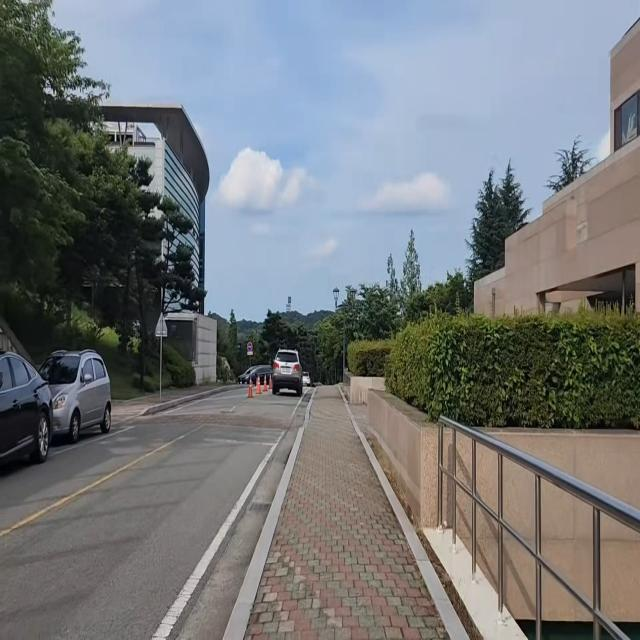obstacle: (39, 345, 124, 453), (0, 345, 56, 480), (267, 339, 304, 400)
road: (0, 387, 312, 640)
sidewalk: (232, 382, 471, 639)
